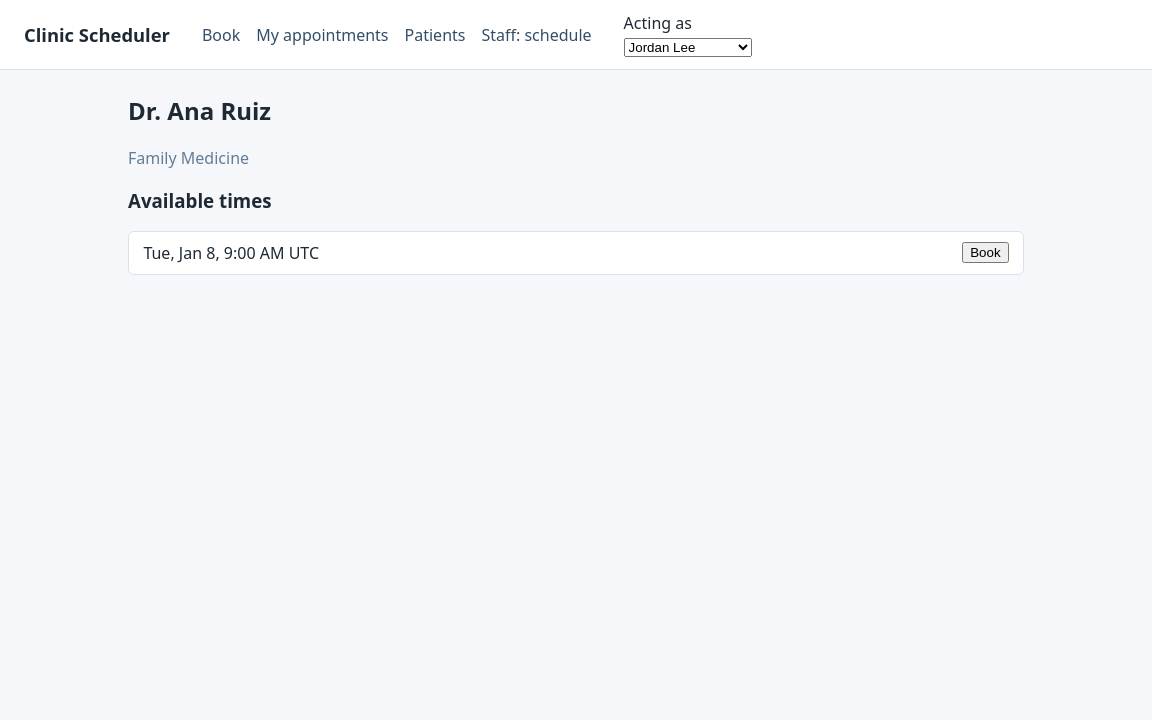
Test: ProviderPage › lists available slots and books one for the current patient
Click the button with test id "slot-book-slt_1" at coordinates (985, 253), box [962, 242, 1009, 263]
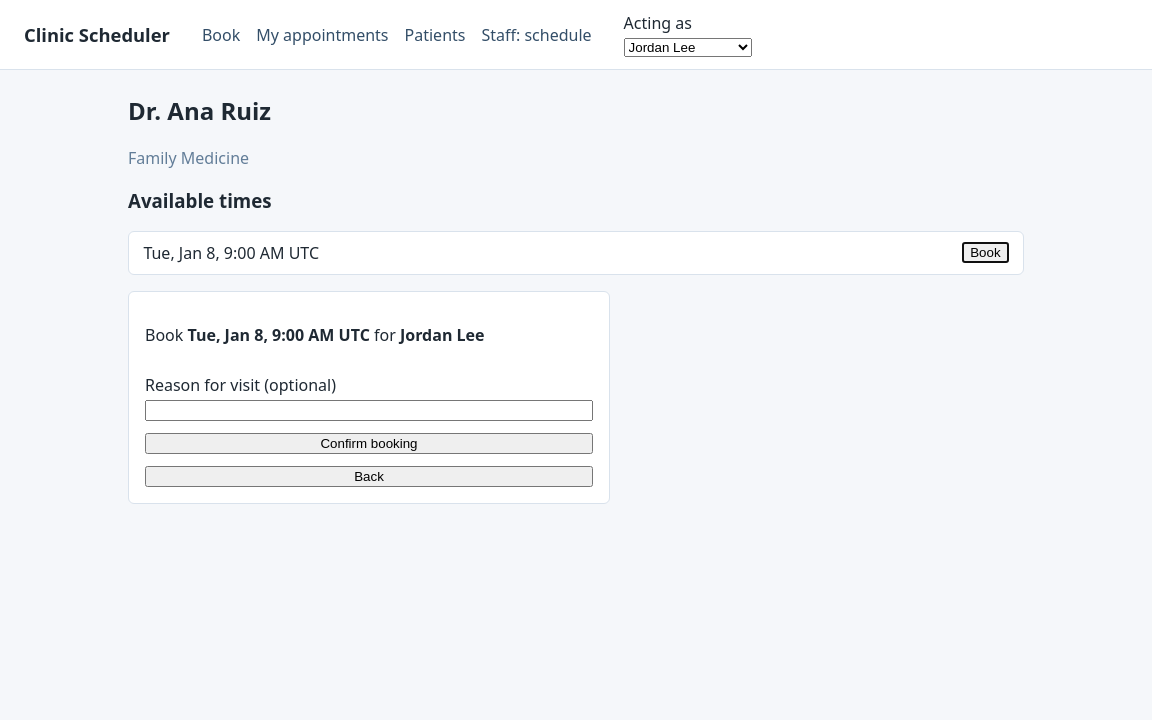
Type "Sore throat" into the field with test id "booking-reason-input" at coordinates (369, 410), box [145, 400, 593, 420]
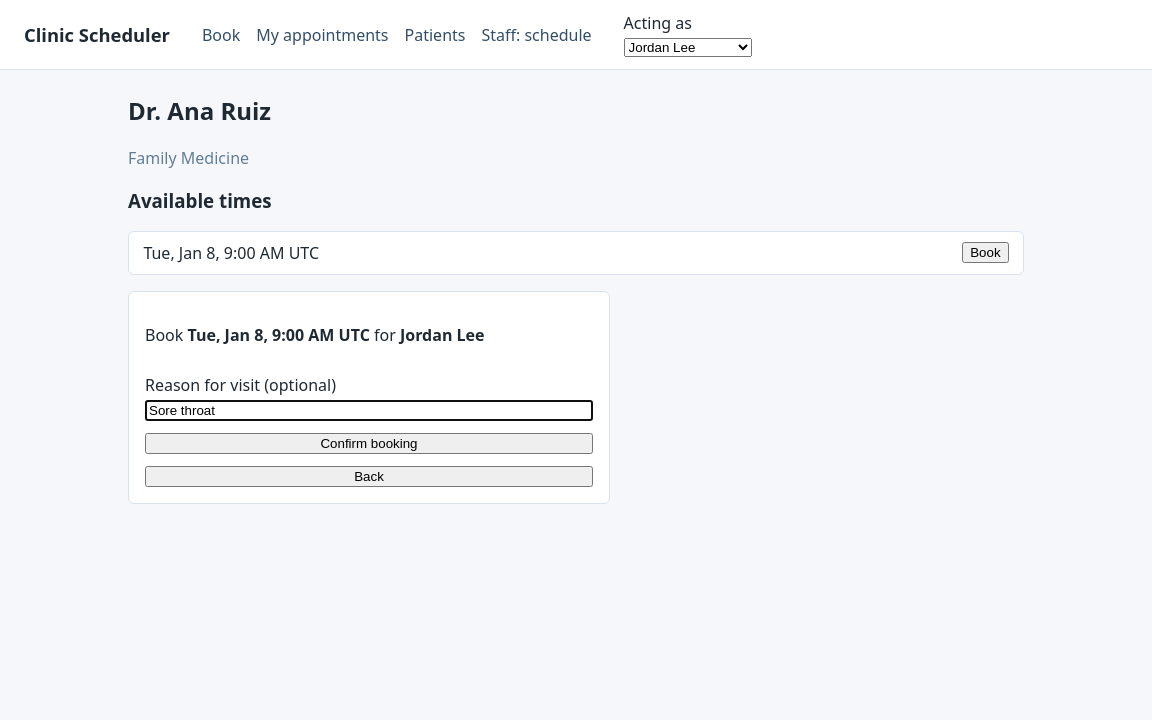
Click the button with test id "booking-submit" at coordinates (369, 443), box [145, 432, 593, 454]
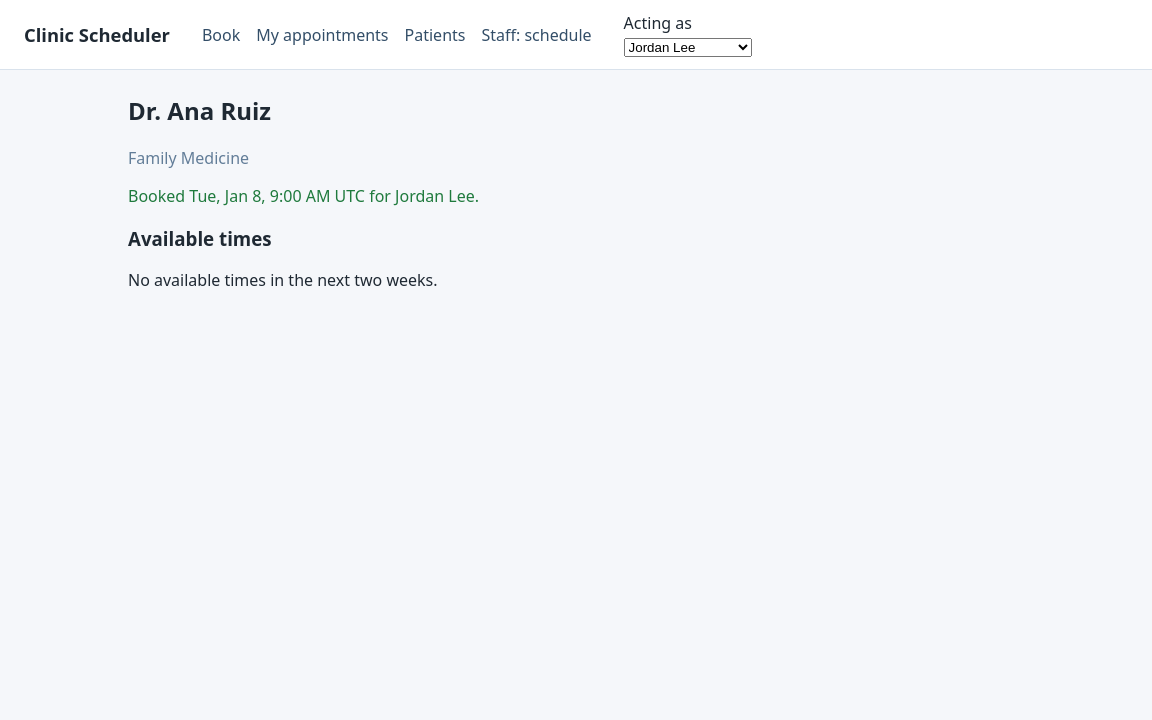
Now the text with test id "booking-success" shows "Jordan Lee", box [395, 185, 475, 207]
Now the text "No available times in the next two weeks." is shown, box [128, 269, 438, 291]
